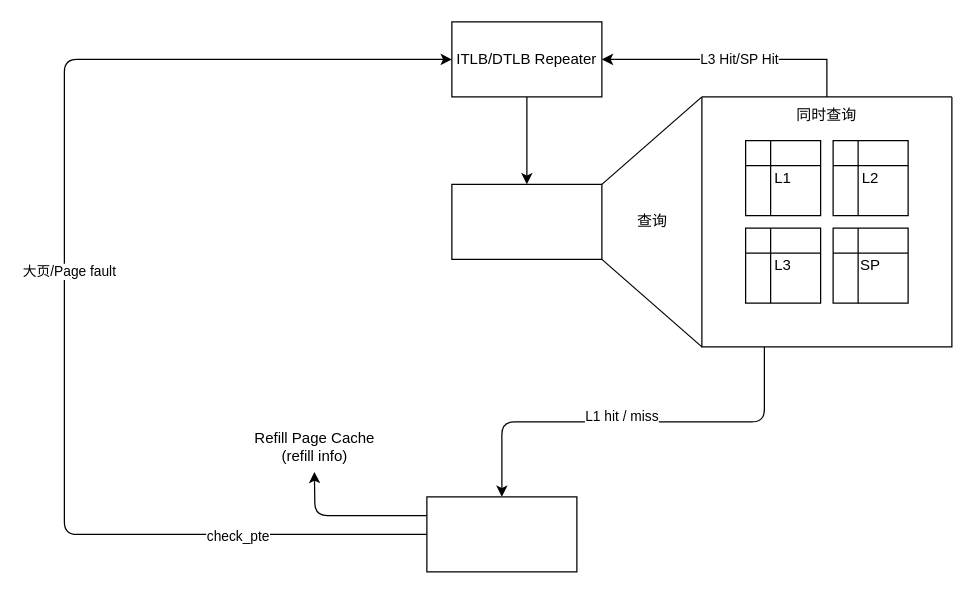
The diagram is 974 pixels wide and 594 high, and some of its shapes have lost their labels. The shapes that lost their labels are listed below. From the top down, each one's centre as x and y in pixels, then its label:
At point 526,221: "Page Cache".
At point 501,534: "PTW(FSM)".
